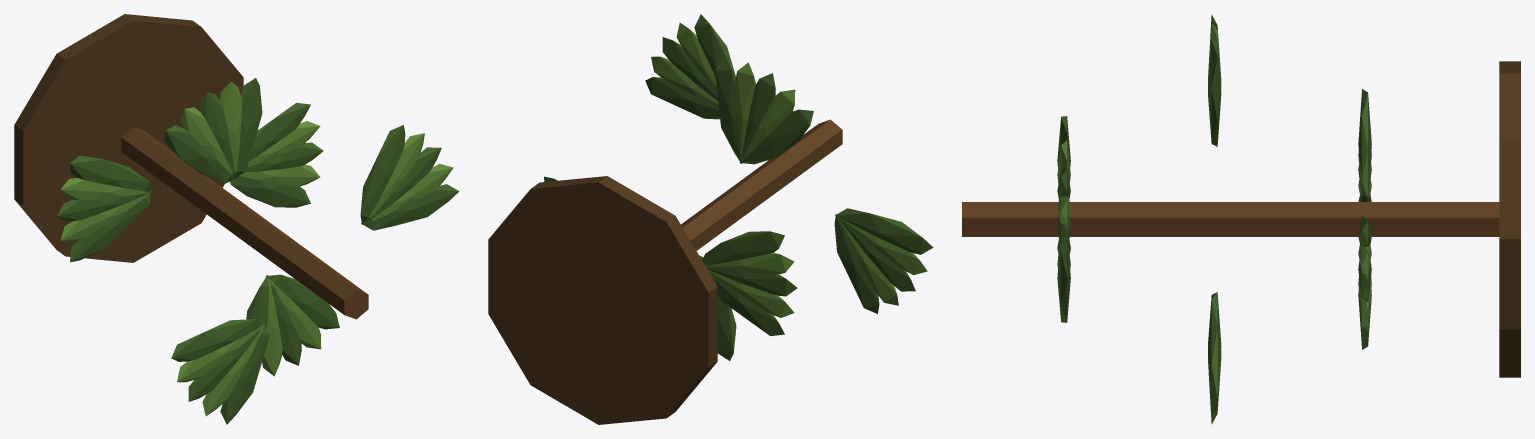
Rendered from 2_growing.obj.
3 views of the same model, side by side, from view 1: azimuth 30°, elevation 25°; view 2: azimuth 150°, elevation 25°; view 3: azimuth 270°, elevation 25° (orthographic). The views are drawn at different scales.
Visible parts, largest first — view 1: krandorian_2_growing; view 2: krandorian_2_growing; view 3: krandorian_2_growing.
Boxes of the visible parts, <box> form: krandorian_2_growing: <box>14,14,459,424</box>; krandorian_2_growing: <box>488,14,933,424</box>; krandorian_2_growing: <box>962,14,1520,424</box>.
Bounding box in the file's own units: 0.3733 × 0.378 × 0.52.
